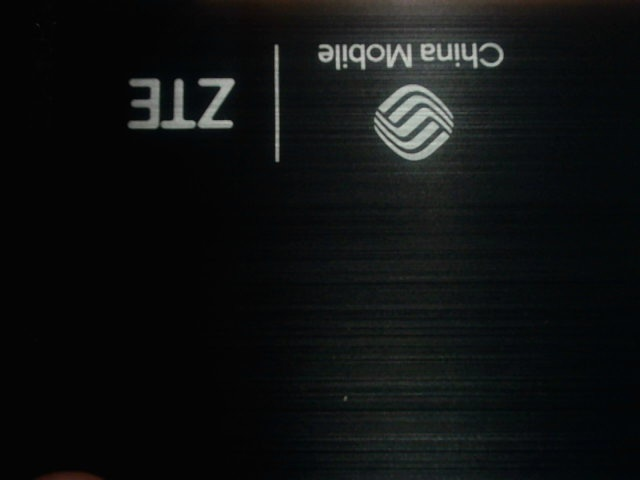AL_ZTEChinaMobile: (96, 24, 519, 176)
